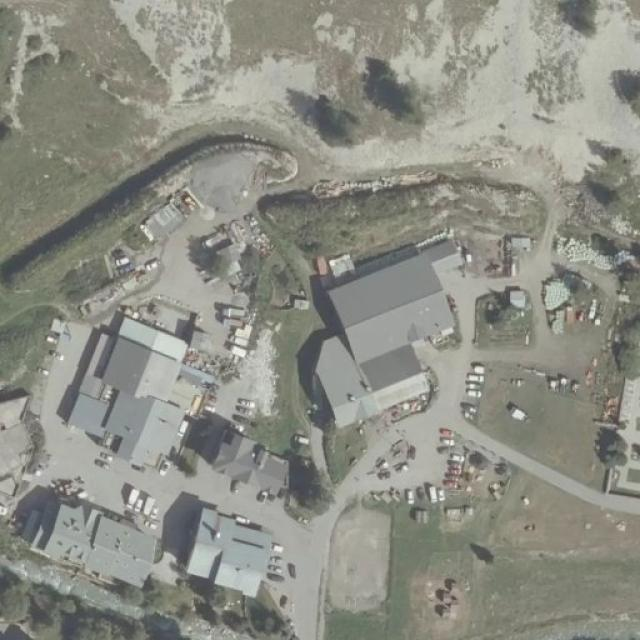maison: (38, 493, 111, 568), (94, 522, 154, 580)
usine: (70, 298, 210, 462), (312, 289, 422, 407), (335, 228, 450, 318), (202, 413, 296, 491), (186, 510, 269, 594), (2, 379, 32, 490)
